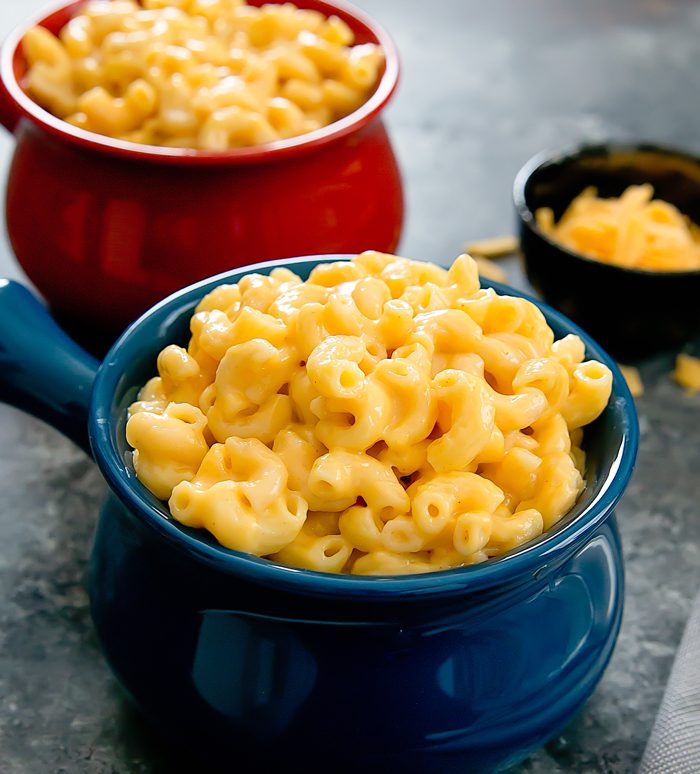macncheese: (164, 283, 628, 592)
